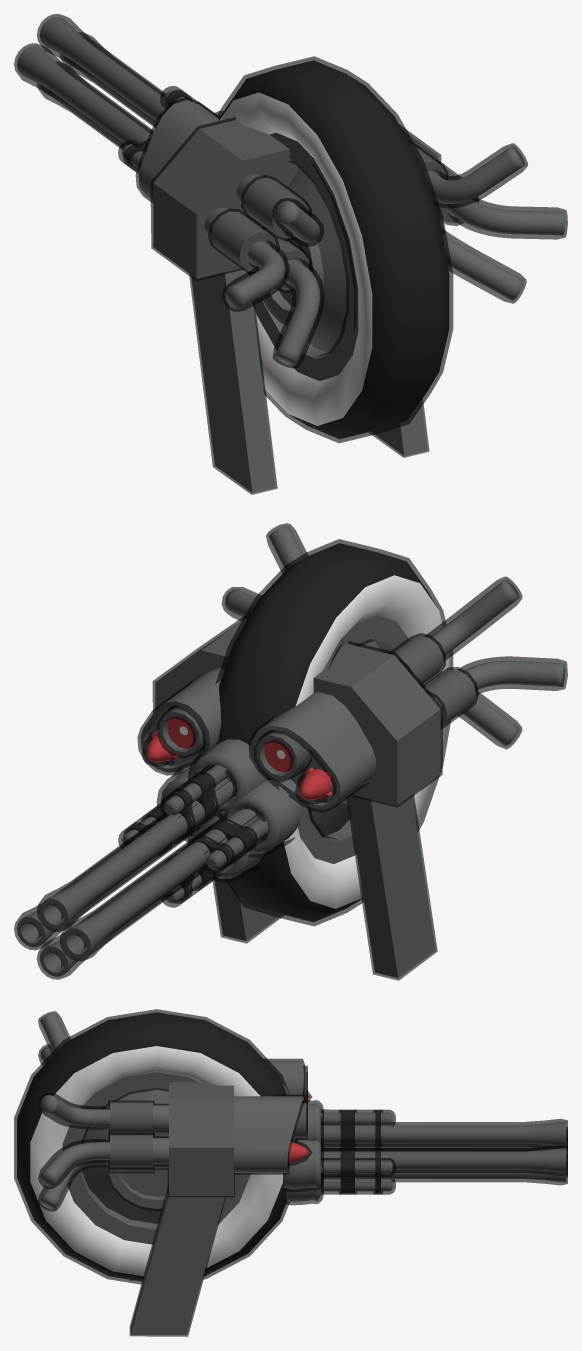
Rendered from Turret_top.fbx.
3 renders of one model, top to bottom at view 1: azimuth 30°, elevation 25°; view 2: azimuth 150°, elevation 25°; view 3: azimuth 270°, elevation 25°, orthographic. The views are drawn at different scales.
Visible parts, largest first — view 1: Turret_0; view 2: Turret_0; view 3: Turret_0.
Boxes of the visible parts, x1,y1,x2,y2 form: Turret_0: [14, 14, 567, 494]; Turret_0: [14, 523, 567, 980]; Turret_0: [14, 1009, 567, 1336].
Size of the model in its own units: 525 by 564 by 980.
